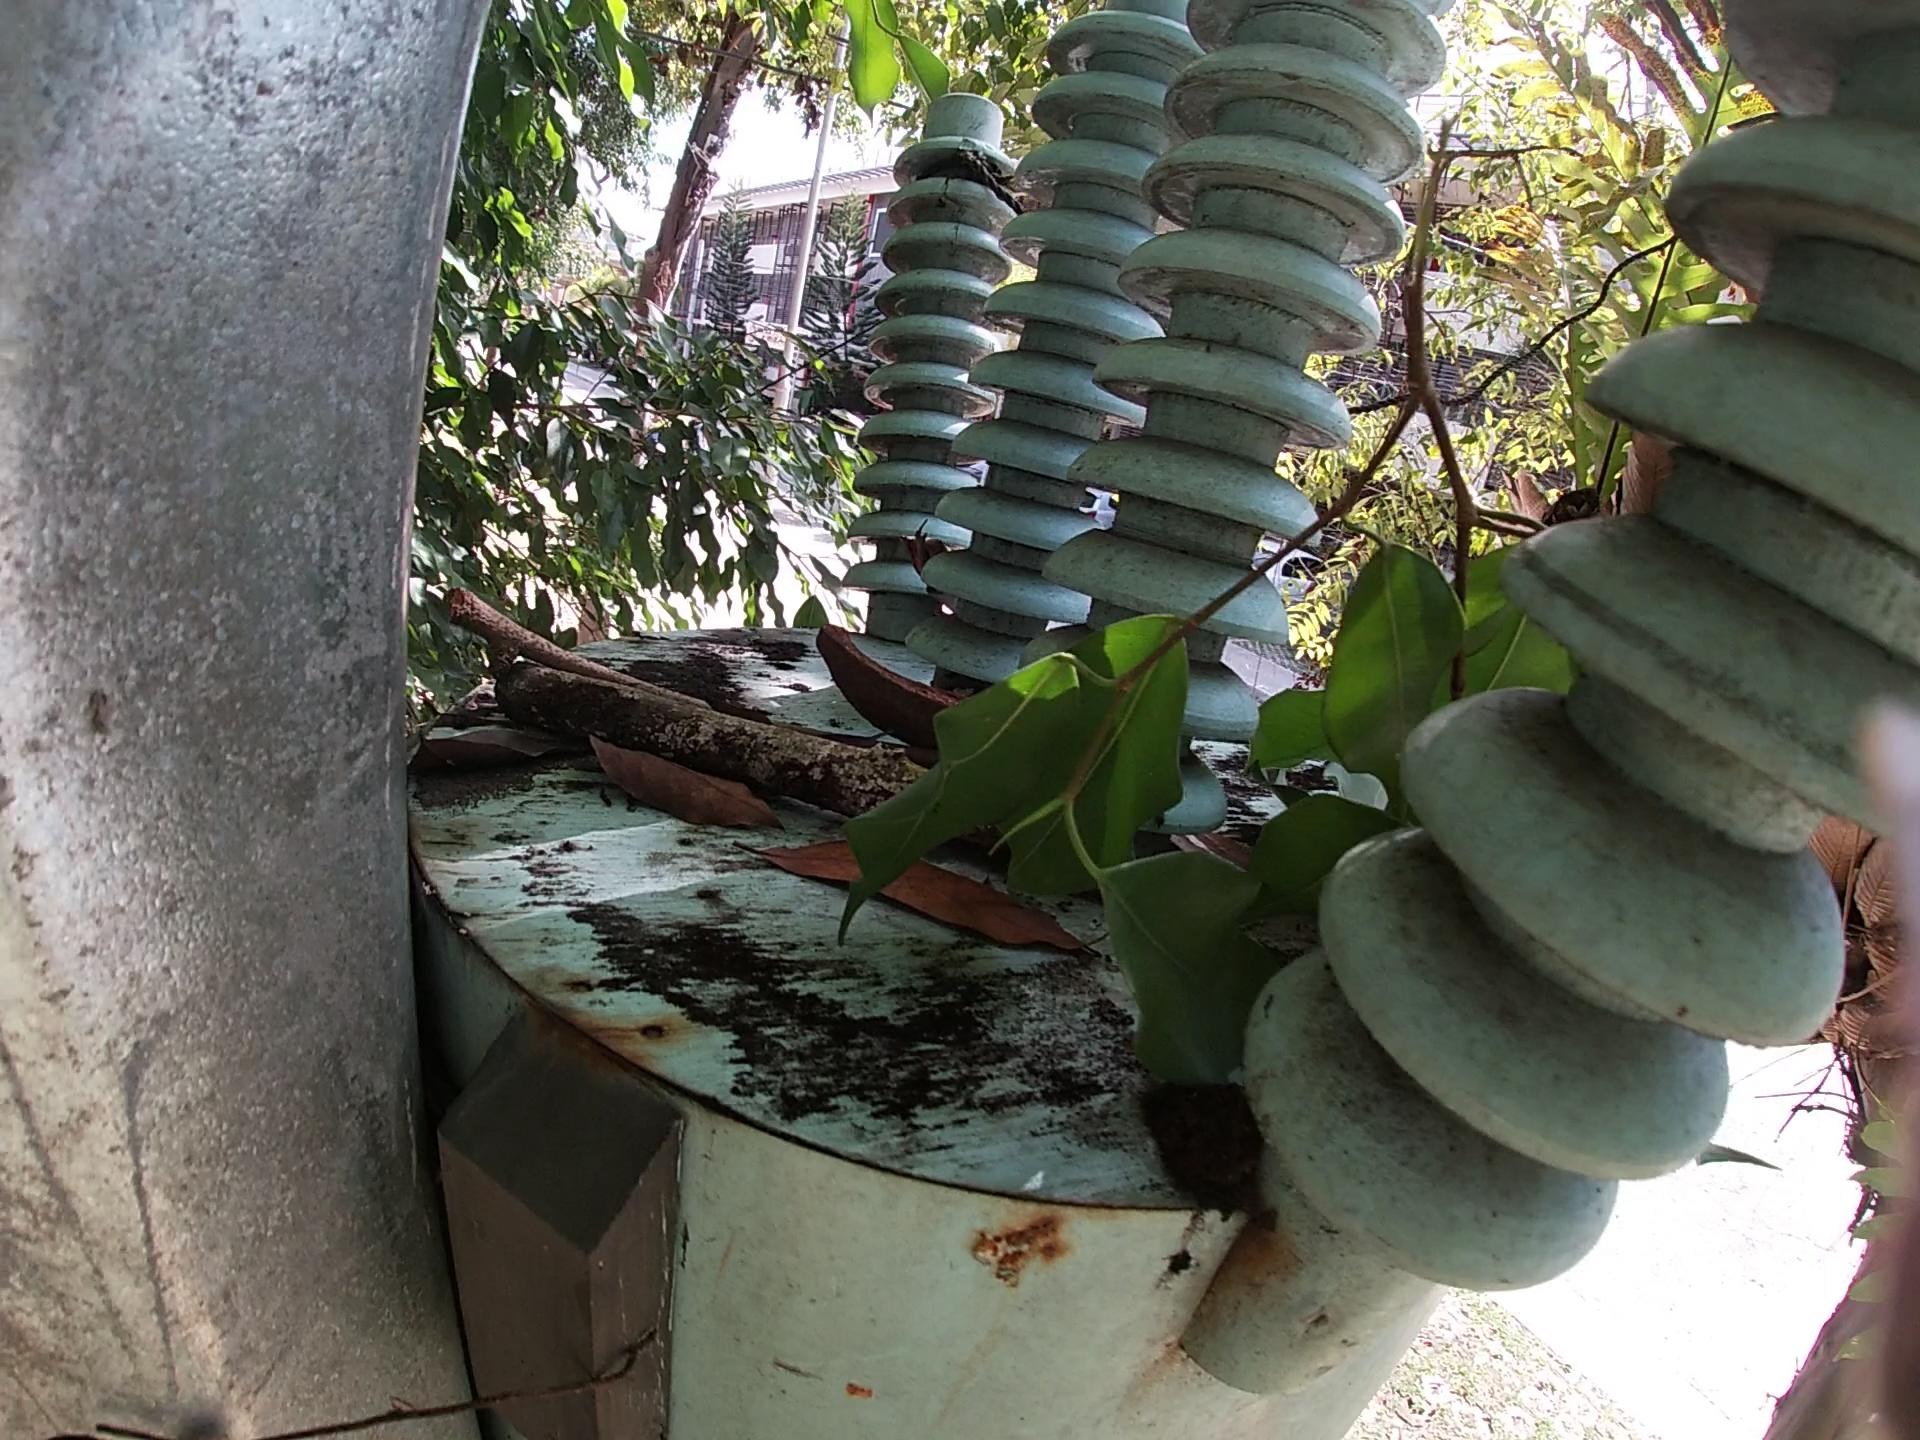branch with leaves: (835, 132, 1571, 1119)
leaf: (791, 830, 1064, 957), (565, 750, 760, 829), (408, 734, 562, 779)
mahogany fruit: (819, 617, 958, 743)
tree branch: (487, 655, 990, 839), (451, 590, 890, 764)
